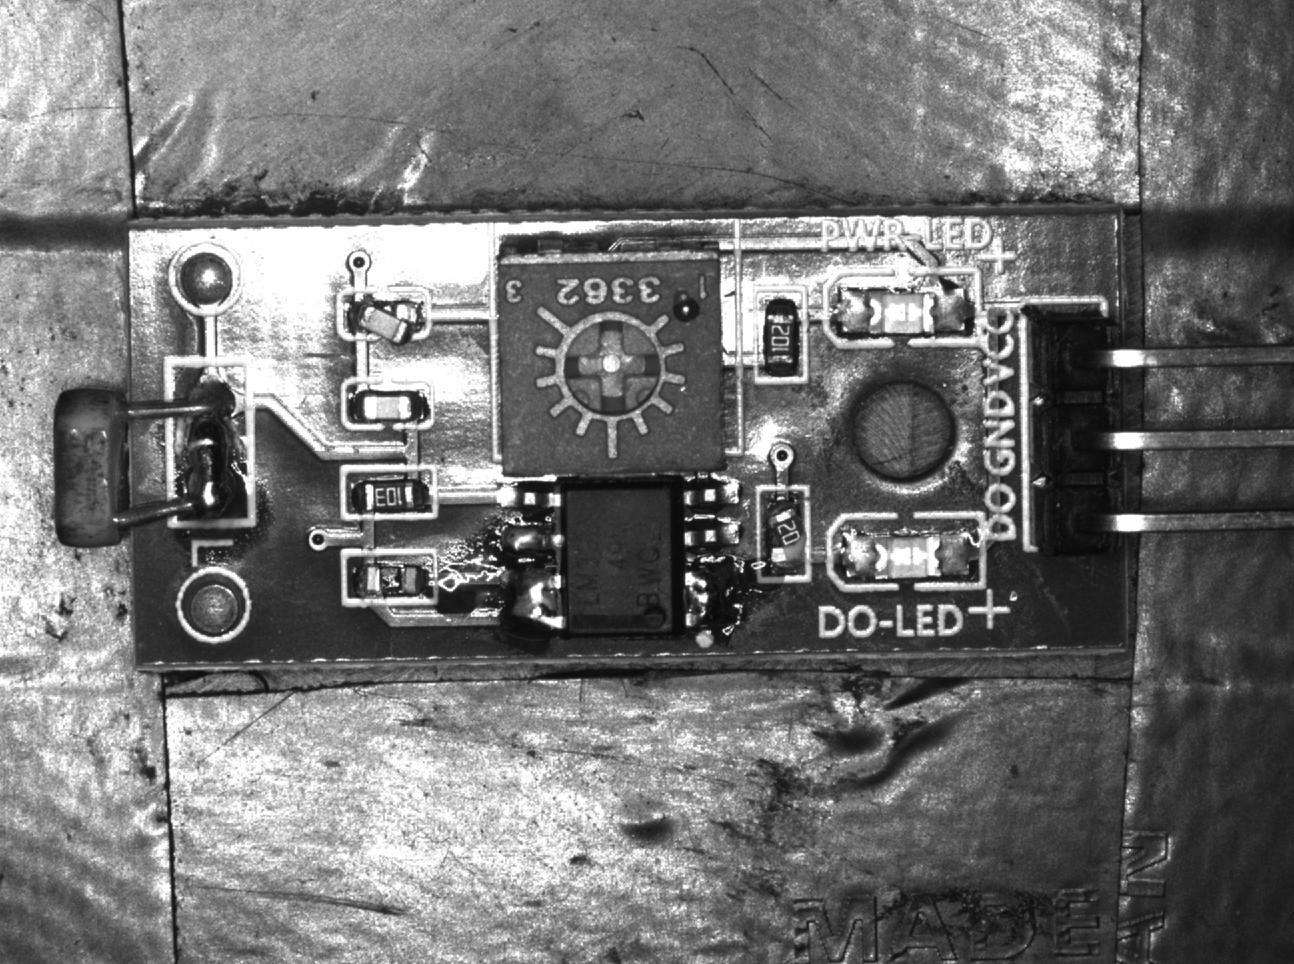bridge: (168, 356, 251, 525), (493, 520, 560, 640), (683, 556, 738, 640)
lifted: (335, 286, 432, 347), (760, 483, 812, 582)
miss: (344, 551, 438, 610)
ok: (341, 463, 442, 521), (340, 376, 434, 432), (754, 289, 806, 380)
